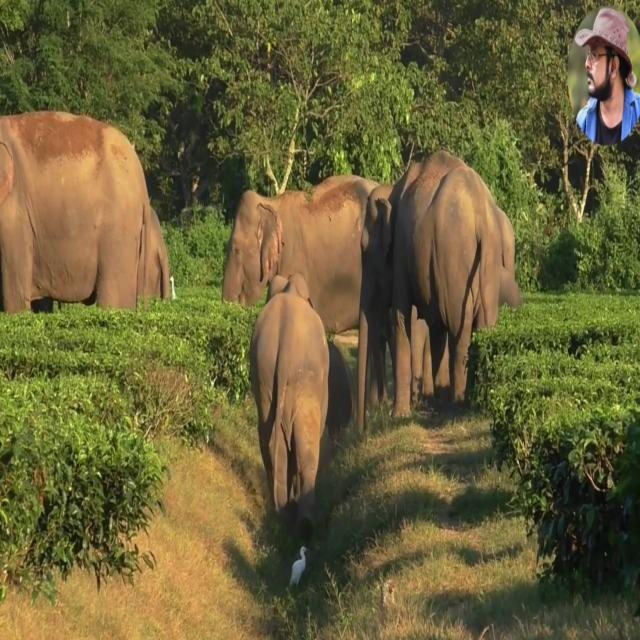Elephant: (222, 173, 394, 436), (385, 148, 522, 420), (0, 109, 170, 314), (249, 272, 330, 540)
person: (574, 6, 640, 145)
